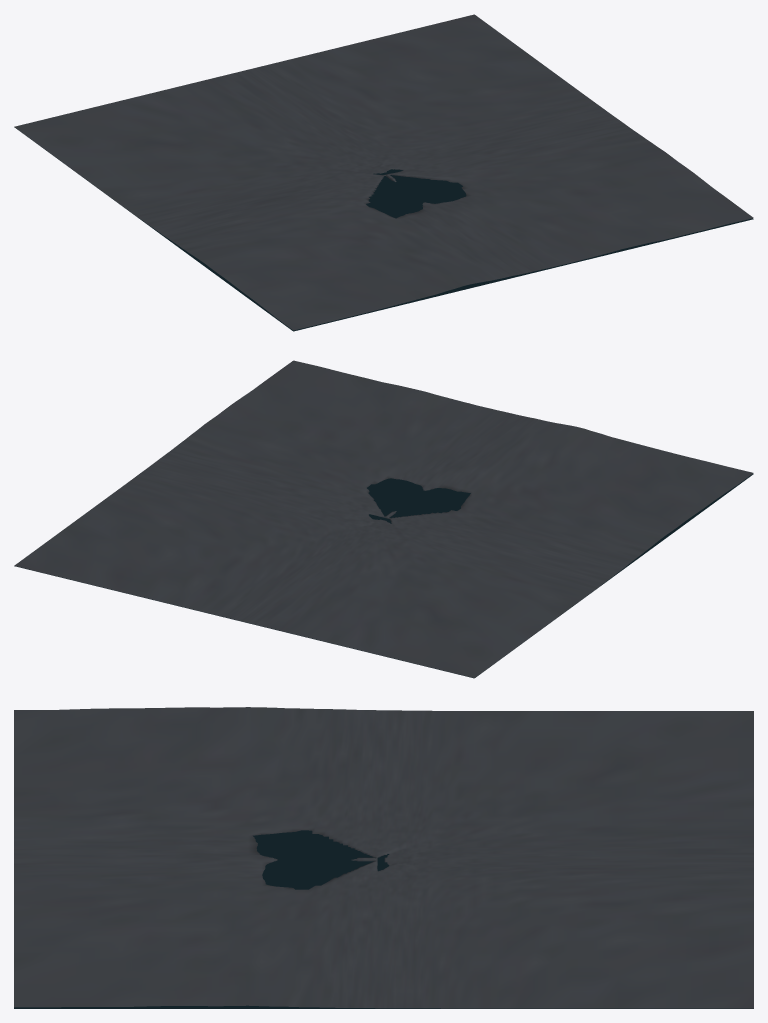
3 views of the same model, one above another, from view 1: azimuth 30°, elevation 25°; view 2: azimuth 150°, elevation 25°; view 3: azimuth 270°, elevation 25° (orthographic). The views are drawn at different scales.
Visible parts, largest first — view 1: terrain-ch07; view 2: terrain-ch07; view 3: terrain-ch07.
Boxes of the visible parts, x1,y1,x2,y2 form: terrain-ch07: (14,14,753,331); terrain-ch07: (14,360,753,678); terrain-ch07: (14,707,753,1008).
Bounding box in the file's own units: 2837 × 39.31 × 2981.
